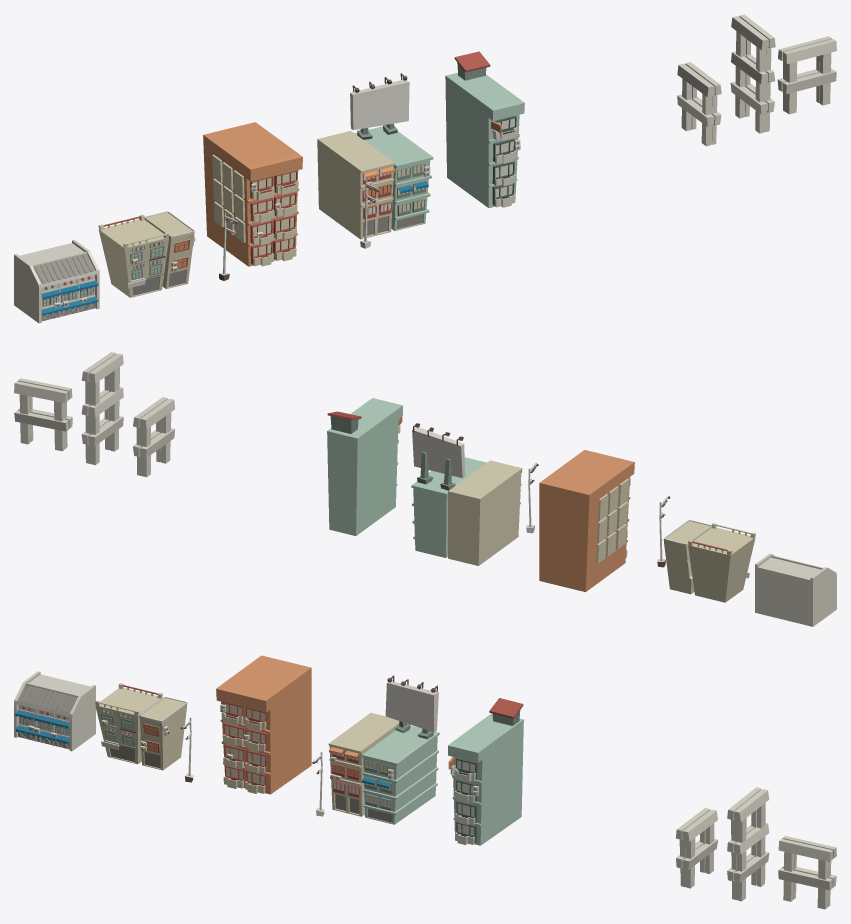
File: building_02.fbx
The picture shows the model from 3 angles, top to bottom: view 1: azimuth 30°, elevation 25°; view 2: azimuth 150°, elevation 25°; view 3: azimuth 330°, elevation 25°; orthographic projection. The views are drawn at different scales.
Parts seen in each view (by area): view 1: B3, B6, B4, B2, B5, B1, H2, H3, H1; view 2: B3, B6, B4, B2, B5, B1, H2, H3, H1; view 3: B3, B6, B5, B2, B1, B4, H2, H3, H1.
Part boxes in pixels (<box>): B3: <box>203,122,302,266</box>; B6: <box>445,51,524,207</box>; B4: <box>317,131,394,248</box>; B2: <box>98,211,238,297</box>; B5: <box>350,73,433,230</box>; B1: <box>14,239,99,323</box>; H2: <box>730,14,775,133</box>; H3: <box>777,36,836,114</box>; H1: <box>677,62,721,146</box>; B3: <box>539,450,634,592</box>; B6: <box>327,398,402,535</box>; B4: <box>448,460,538,565</box>; B2: <box>657,496,755,602</box>; B5: <box>411,423,486,557</box>; B1: <box>755,553,836,626</box>; H2: <box>81,352,123,465</box>; H3: <box>14,378,72,451</box>; H1: <box>133,397,174,477</box>; B3: <box>216,655,311,794</box>; B6: <box>448,698,523,845</box>; B5: <box>362,675,439,824</box>; B2: <box>95,683,193,782</box>; B1: <box>14,671,95,751</box>; B4: <box>312,713,399,816</box>; H2: <box>727,787,769,901</box>; H3: <box>778,836,836,909</box>; H1: <box>676,808,717,888</box>.
Size of the model in its own units: 1369 by 196 by 174.
